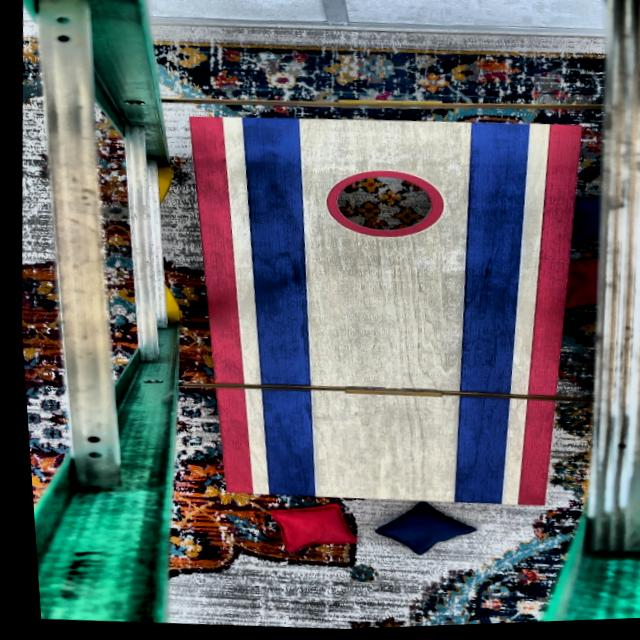blue-bean-bag: (363, 499, 472, 564), (563, 194, 599, 251)
board: (200, 109, 560, 515)
hole: (318, 167, 444, 246)
red-bean-bag: (260, 500, 351, 558), (557, 259, 595, 316)
